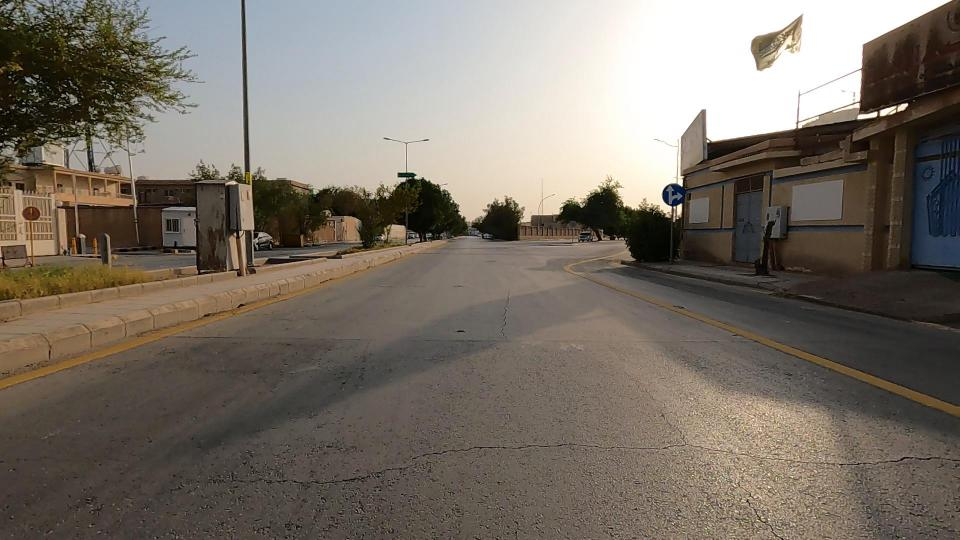BAD_BILLBOARD: (785, 0, 960, 149)
